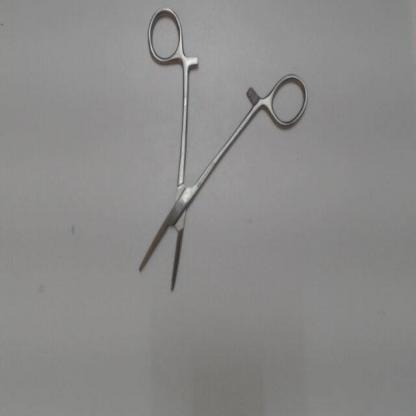Mayo Needle Holder: (127, 1, 318, 308)
